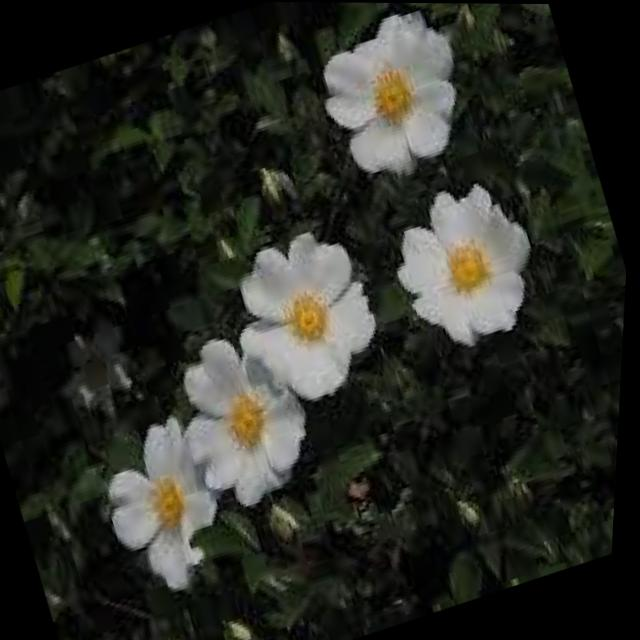Flower: (212, 208, 416, 427), (277, 2, 496, 203), (163, 311, 347, 518), (75, 395, 247, 598), (382, 170, 564, 360)
